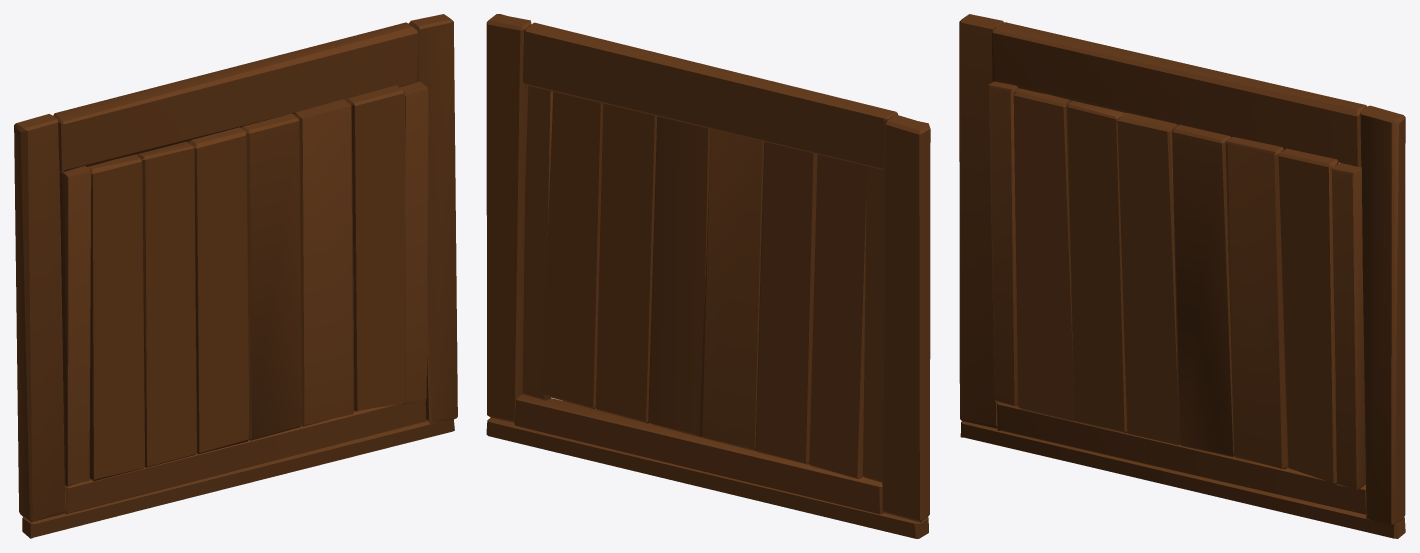
The model's file is FairyTale321.gltf.
The picture shows the model from 3 angles, left to right: view 1: azimuth 30°, elevation 25°; view 2: azimuth 150°, elevation 25°; view 3: azimuth 330°, elevation 25°; orthographic projection.
Parts seen in each view (by area): view 1: 网格272; view 2: 网格272; view 3: 网格272.
Boxes of the visible parts, <box> form: 网格272: <box>14,14,457,538</box>; 网格272: <box>486,14,930,538</box>; 网格272: <box>959,14,1405,538</box>.
Bounding box in the file's own units: 0.8615 × 0.787 × 0.0655.
